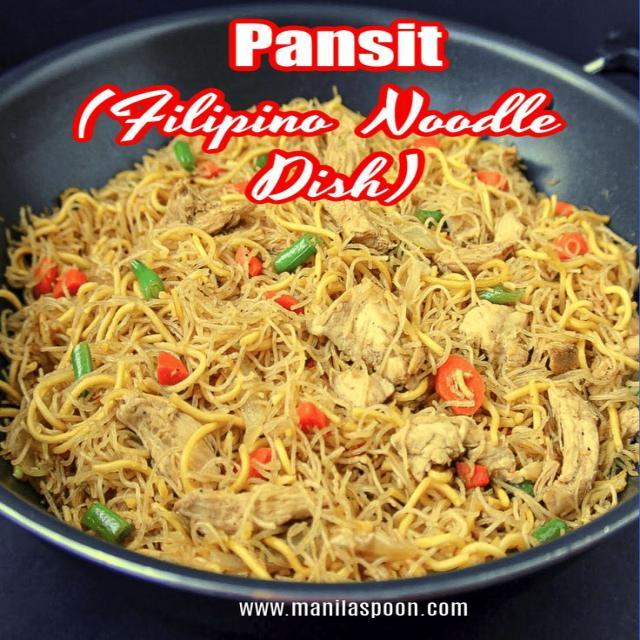pancit bihon: (6, 20, 640, 602)
